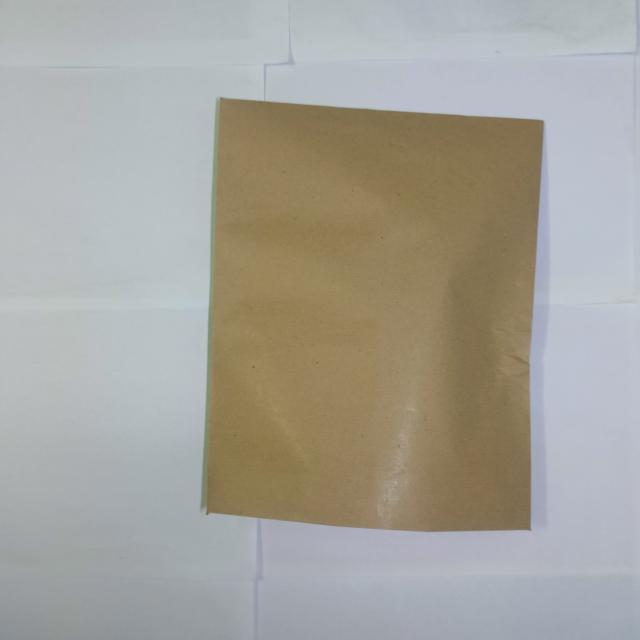box: (210, 99, 545, 532)
